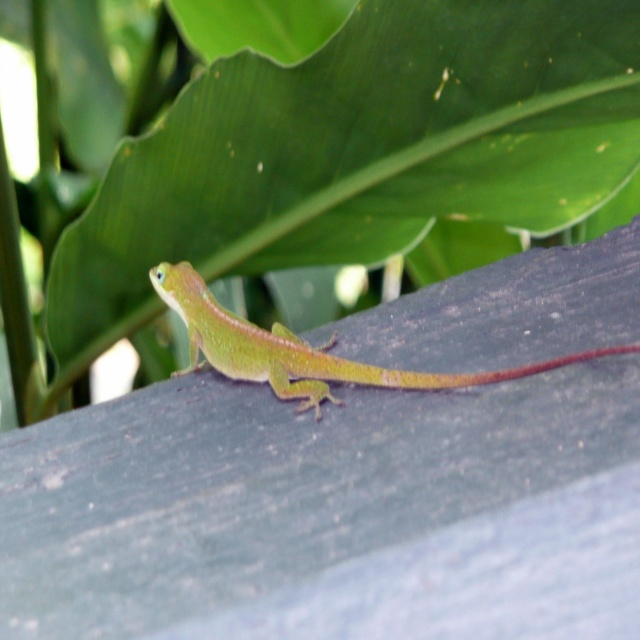Lizard: (148, 261, 631, 421)
